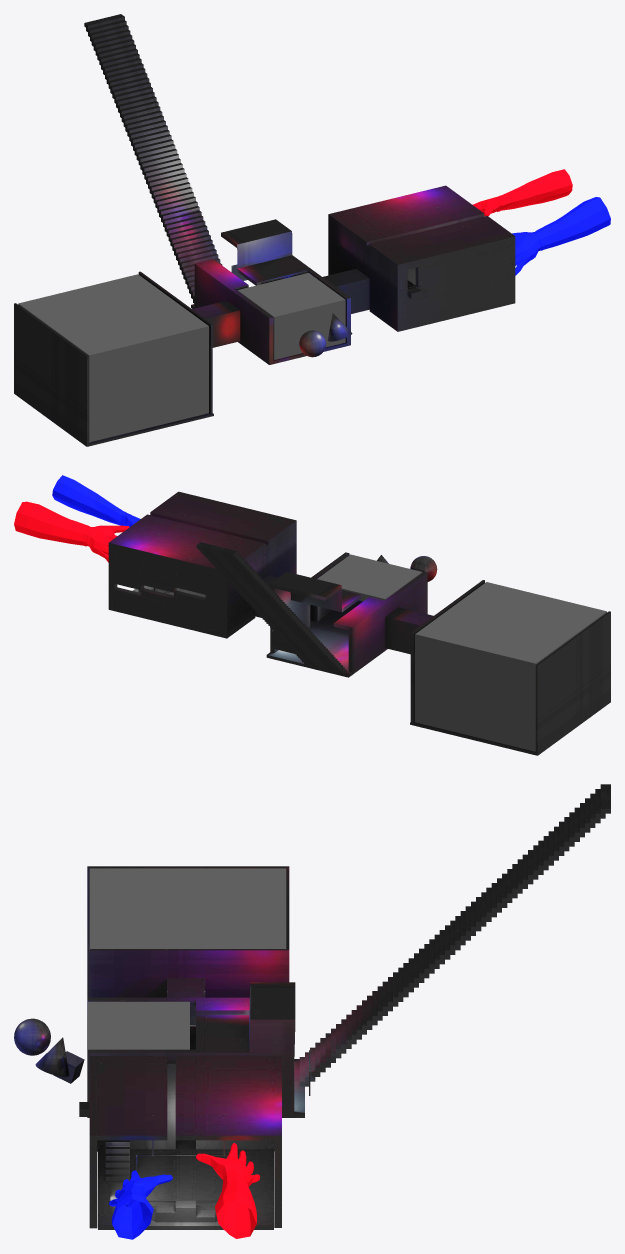
The model's file is FinalWithTex_small.glb.
3 views of the same model, one above another, from view 1: azimuth 30°, elevation 25°; view 2: azimuth 150°, elevation 25°; view 3: azimuth 270°, elevation 25° (orthographic). The views are drawn at different scales.
Parts seen in each view (by area): view 1: Room; view 2: Room; view 3: Room.
Boxes of the visible parts, bbox=[...] form: Room: bbox=[14, 14, 610, 446]; Room: bbox=[14, 475, 610, 755]; Room: bbox=[14, 784, 610, 1239].
Size of the model in its own units: 165 by 70.83 by 115.
14 materials, 11 textured.
